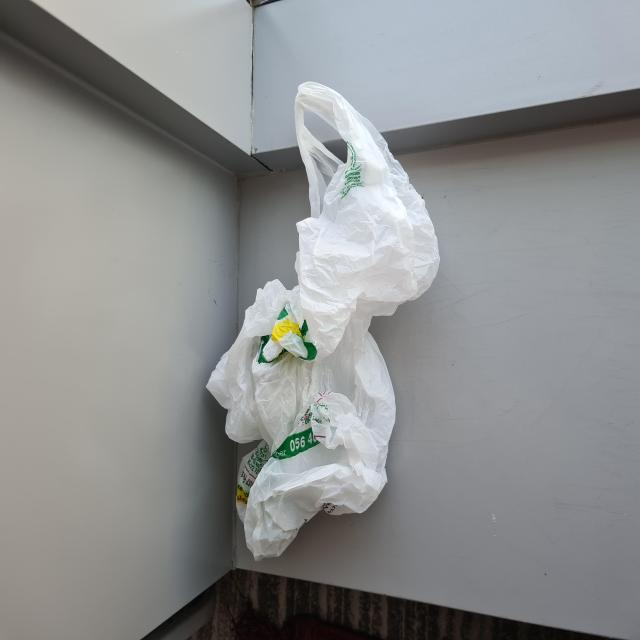plastic bag: (202, 77, 441, 562)
